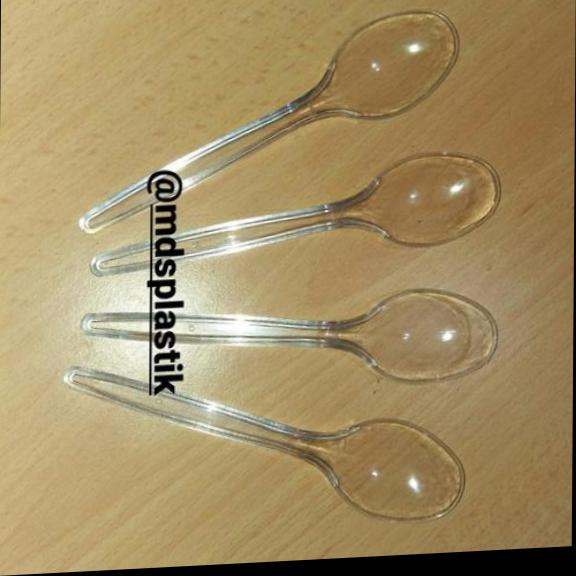Plastik: (63, 367, 463, 521), (162, 12, 457, 189), (172, 154, 499, 262), (173, 290, 495, 384)
